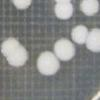white: (36, 50, 62, 77), (52, 37, 77, 63), (4, 45, 30, 68), (0, 35, 22, 56), (54, 2, 76, 22), (69, 24, 89, 46), (85, 27, 100, 53), (79, 0, 100, 18), (8, 0, 34, 12), (53, 0, 74, 4)
